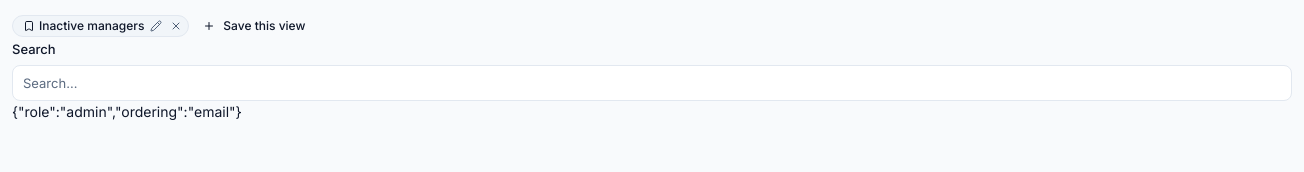
SavedViews › applies a view, replacing every key it owns, and the search box shows it
Click the button "Inactive managers". click: (84, 26)
box: [23,18,144,34]
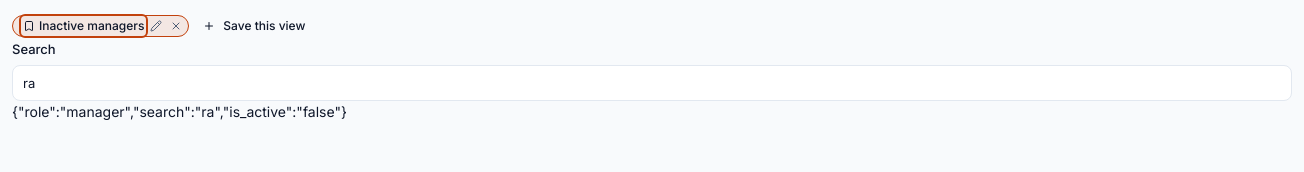
Expected: the search field labelled "Search" holds "ra", [12,65,1292,101]
